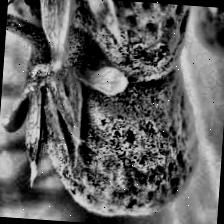Gray Mold: (0, 10, 205, 222), (63, 0, 192, 88)
